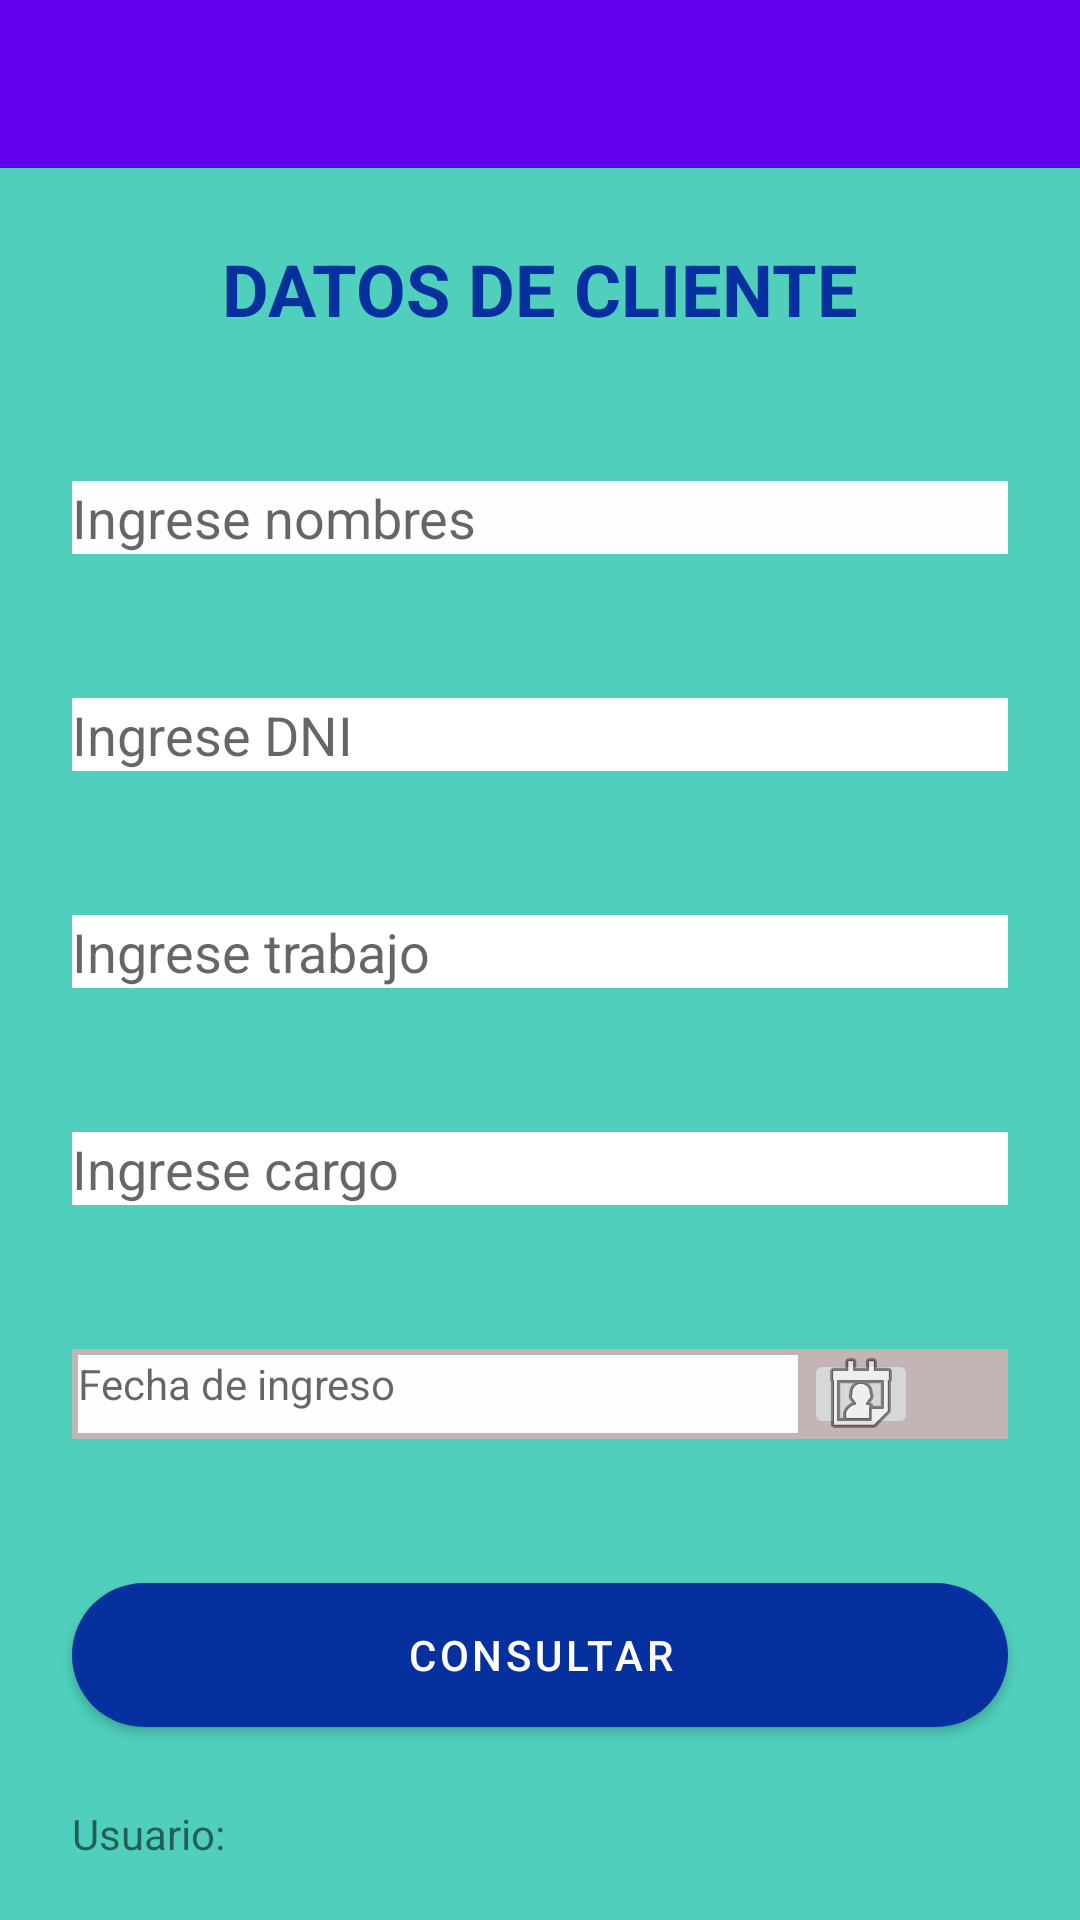

Named icons in this screenshot (1080 × 1920) and their centers, (x=x, y=y):
calendar: (x=861, y=1393)
